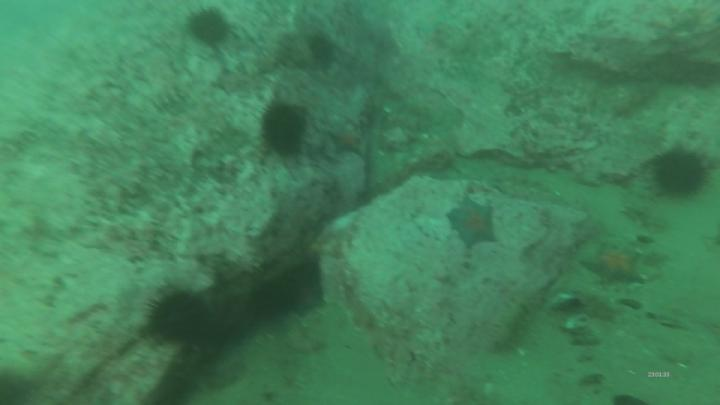echinus: (151, 298, 210, 342), (658, 150, 706, 197), (264, 106, 305, 151), (189, 10, 228, 45)
holothurian: (491, 294, 540, 349)
starfish: (586, 243, 640, 284), (449, 201, 495, 246), (331, 123, 364, 155)
